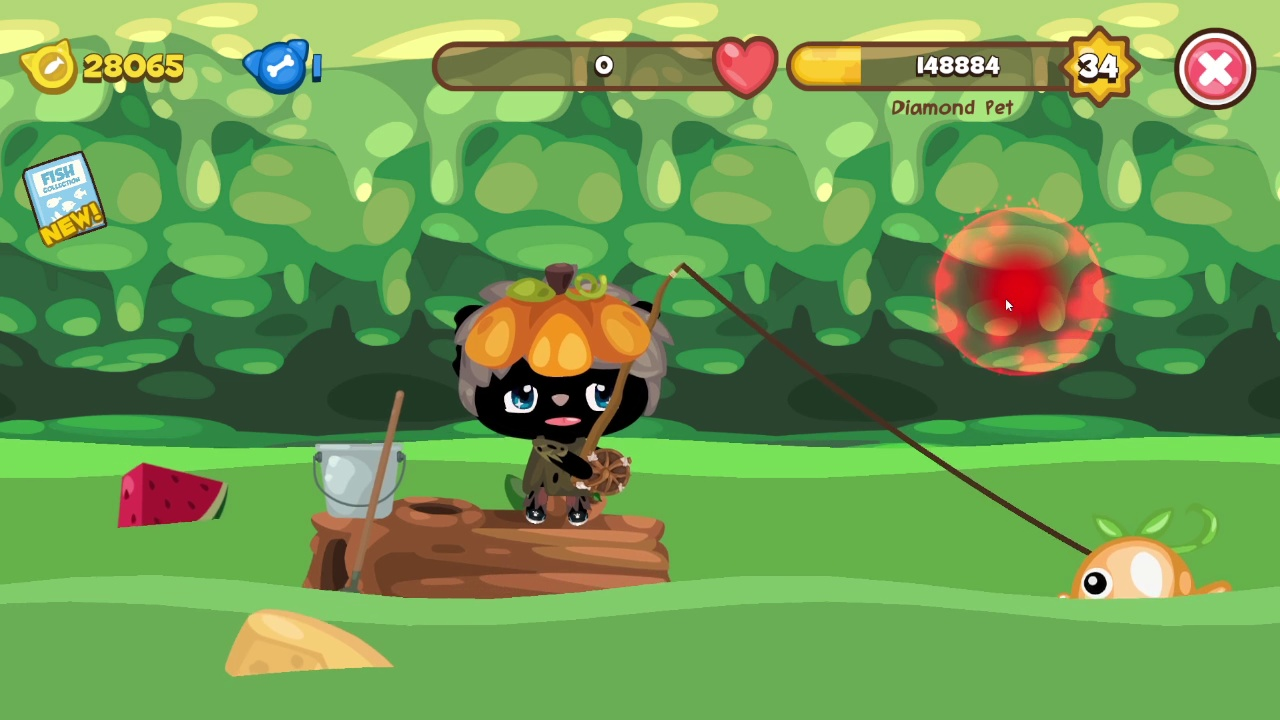point: (932, 204, 1110, 377)
